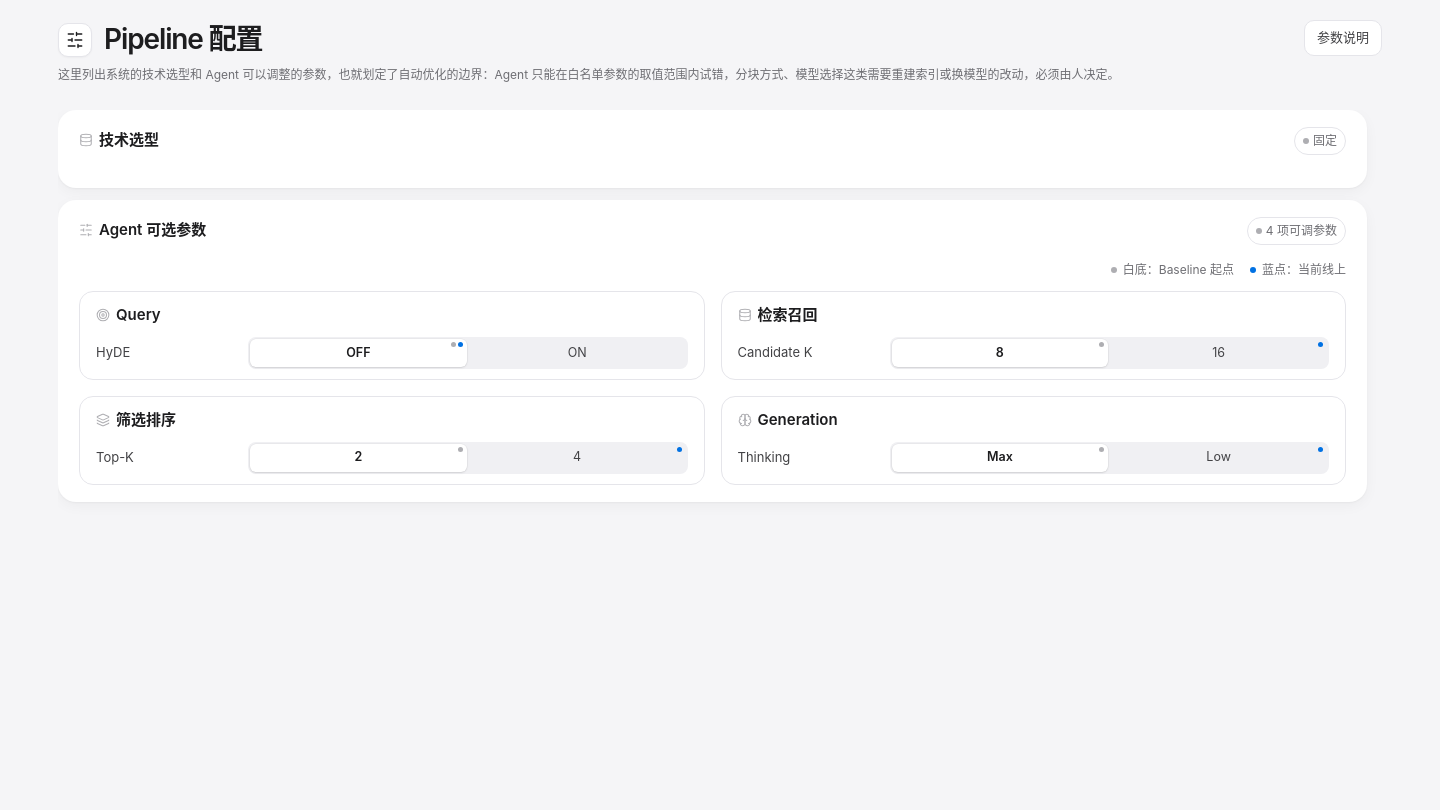
keeps online dots independently of editable draft selection without D result highlighting
Expected: the element with class "ui-pg-legend" shows "白底：Baseline 起点", [1123, 262, 1234, 277]
Expected: the element with class "ui-pg-legend" shows "蓝点：当前线上", [1262, 262, 1346, 277]
Click the radio button labelled "ON". click: (577, 353)
box: [469, 339, 686, 367]
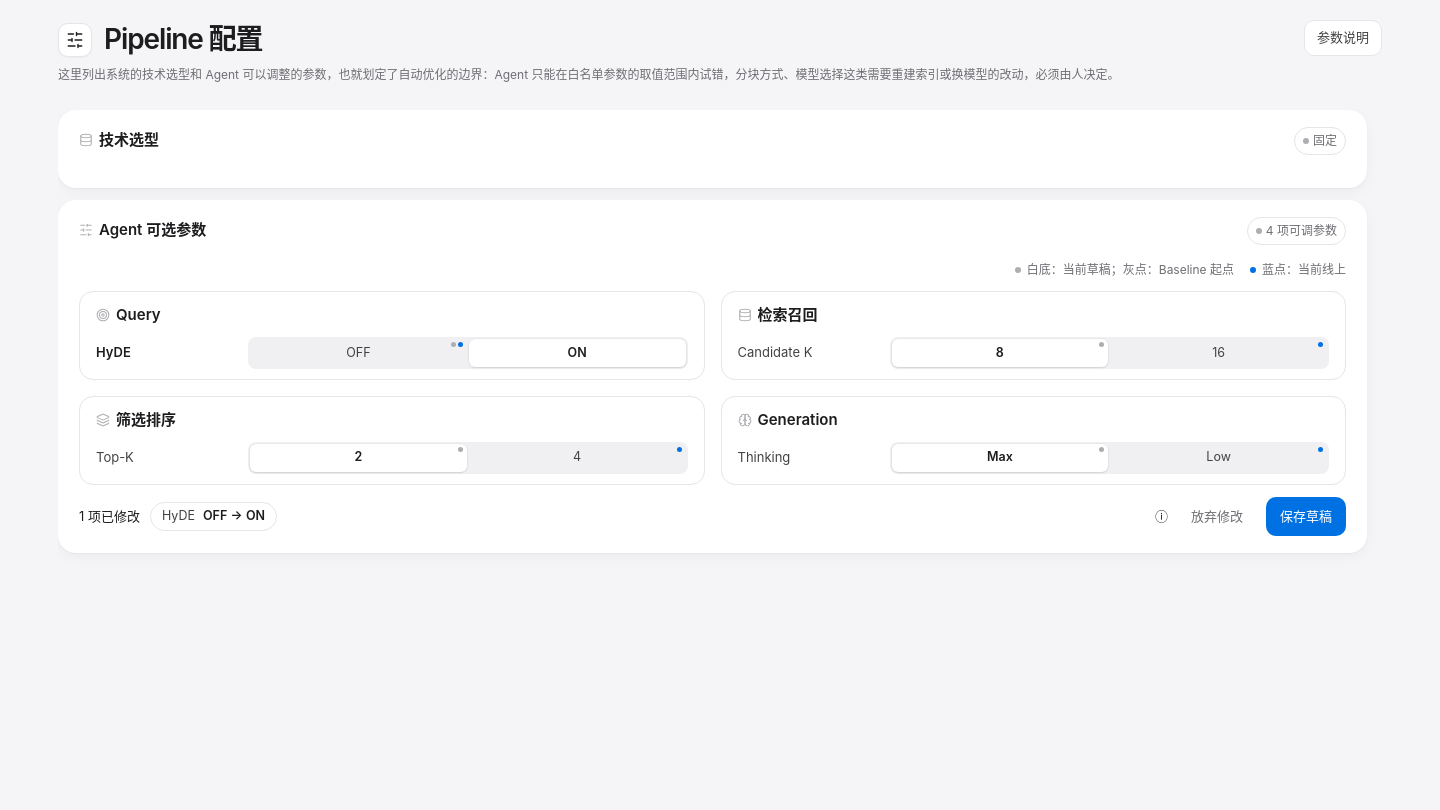
Click the button "参数说明". click: (1343, 38)
box: [1304, 20, 1382, 56]
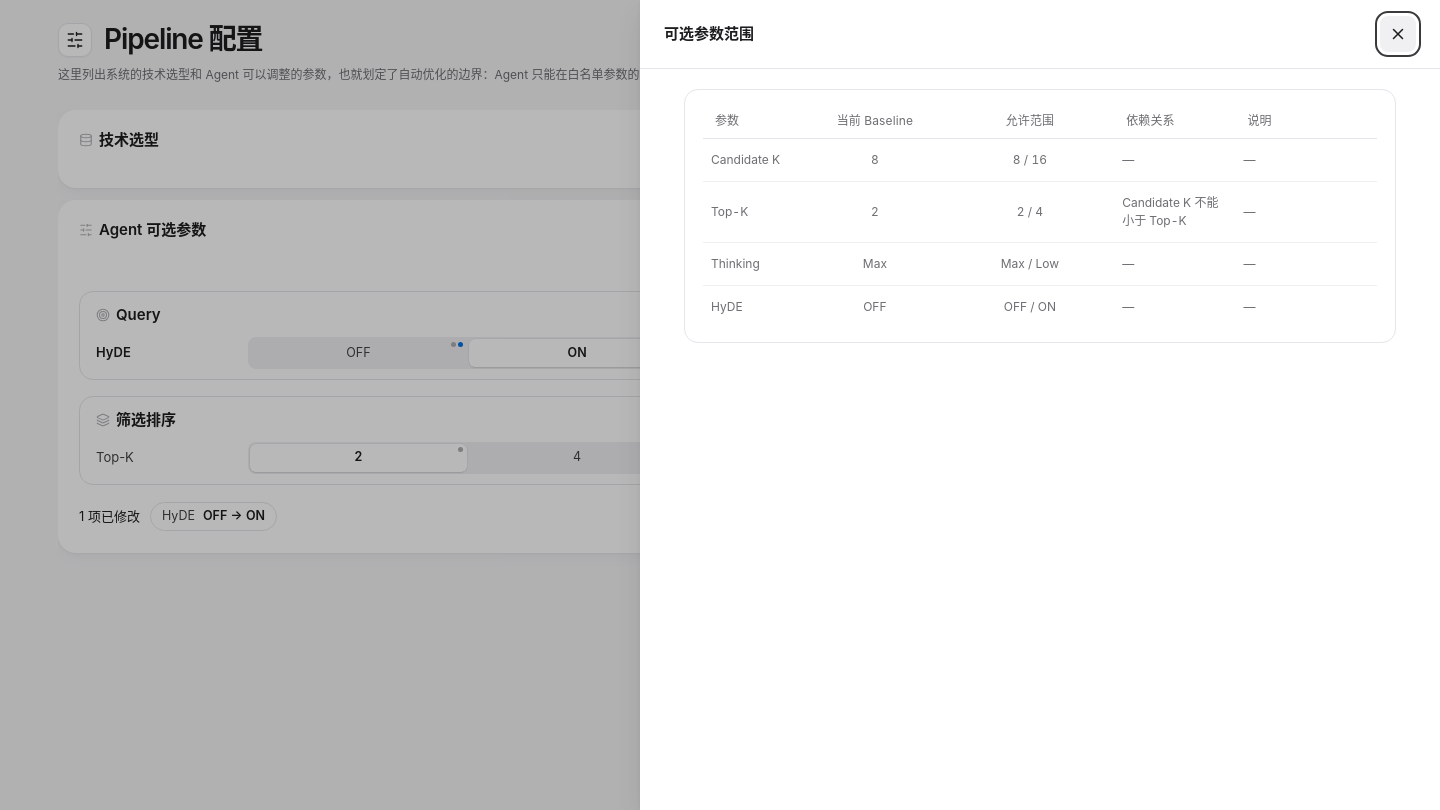
Expected: the dialog shows "可选参数范围", [664, 24, 754, 43]
